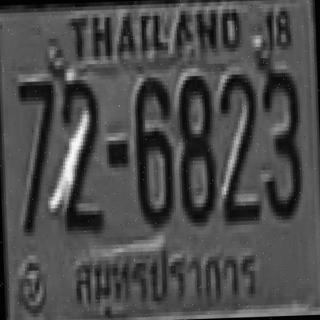N02: (55, 78, 100, 233), (217, 70, 259, 222)
N03: (259, 66, 301, 218)
N06: (132, 73, 172, 224)
N07: (15, 77, 58, 232)
N08: (176, 74, 216, 221)
P57: (68, 237, 264, 319)
